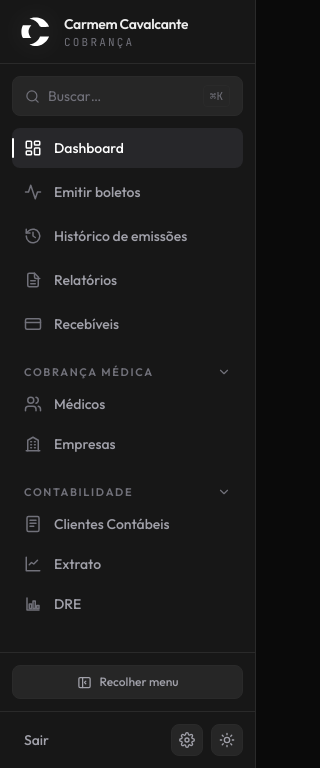
Scenario: Sidebar — accordion das seções (item 3, polimento UX 2026-07-30) › clicar no título da seção recolhe o grupo (some o item de dentro)
The image size is (320, 768).
Check: the link "Médicos" is shown, box [24,395,105,413]
Click the button "Cobrança Médica": (128, 374) [12,364,243,384]
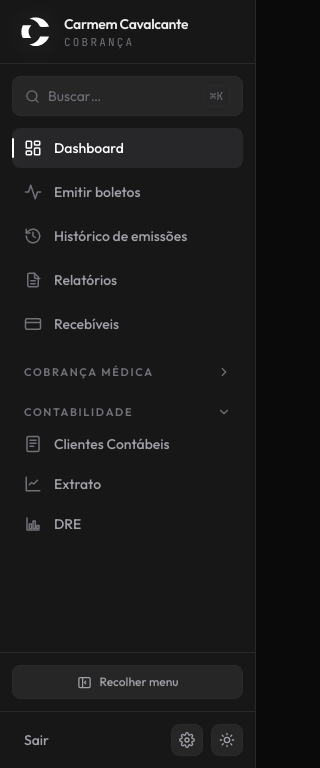
Check: the button "Cobrança Médica" is collapsed, box [12,364,243,384]
Check: the link "Médicos" is gone
